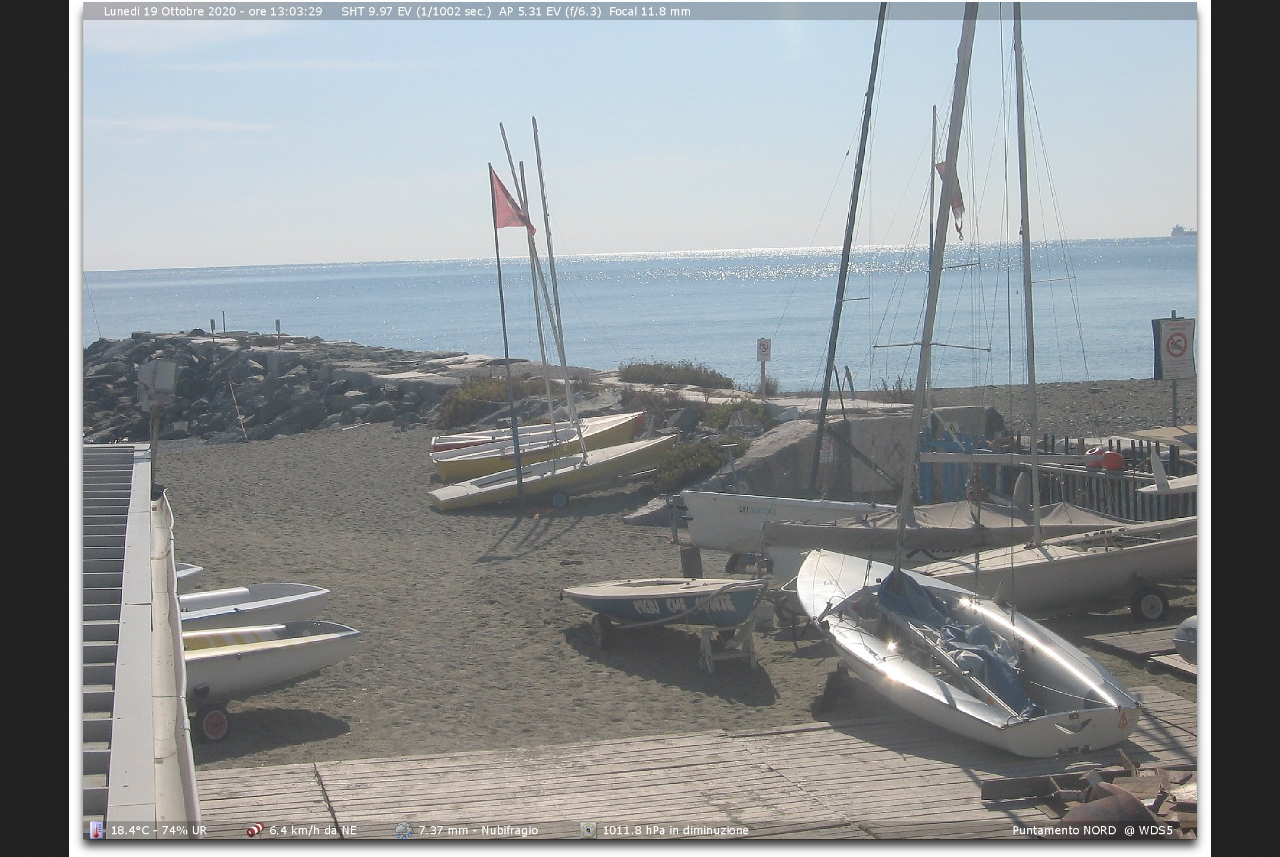maybe: (491, 169, 537, 233)
